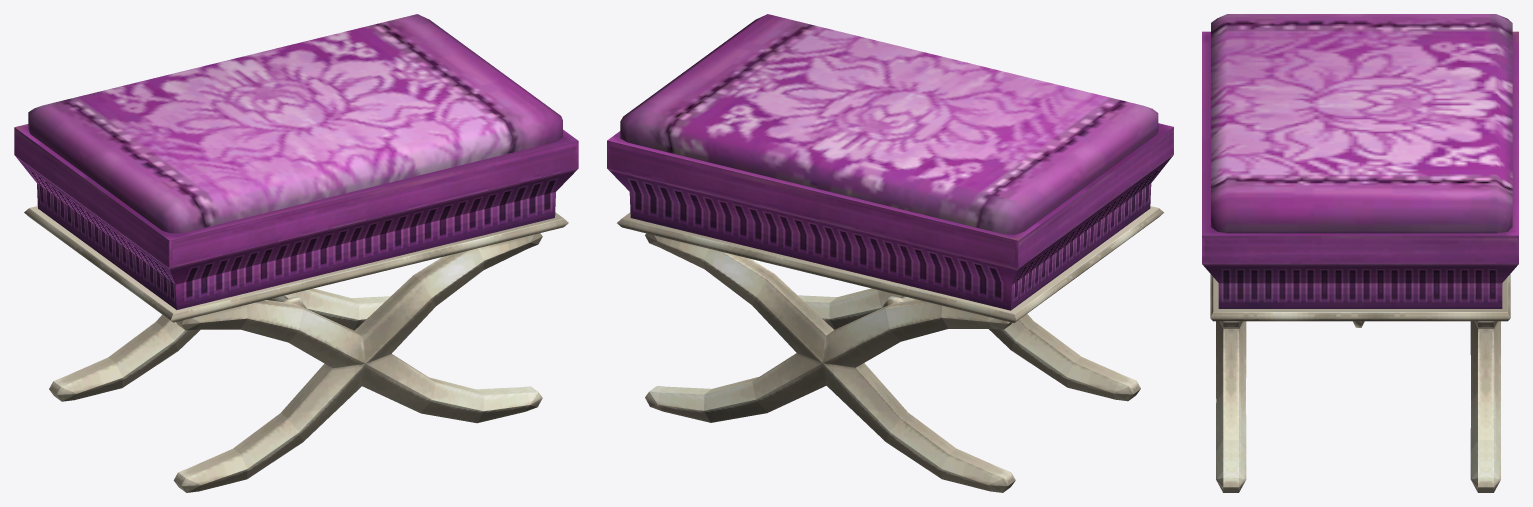
The model's file is furni_0201116_01.FBX.
The picture shows the model from 3 angles, left to right: view 1: azimuth 30°, elevation 25°; view 2: azimuth 150°, elevation 25°; view 3: azimuth 270°, elevation 25°; orthographic projection. The views are drawn at different scales.
Visible parts, largest first — view 1: furni_0201116_01; view 2: furni_0201116_01; view 3: furni_0201116_01.
Part boxes in pixels (box(x1,y1,x2,y2)): furni_0201116_01: box(14, 14, 578, 492); furni_0201116_01: box(607, 14, 1173, 492); furni_0201116_01: box(1202, 14, 1518, 492).
Size of the model in its own units: 65.56 by 44.99 by 43.
Materials: 1 (1 with a texture image).
